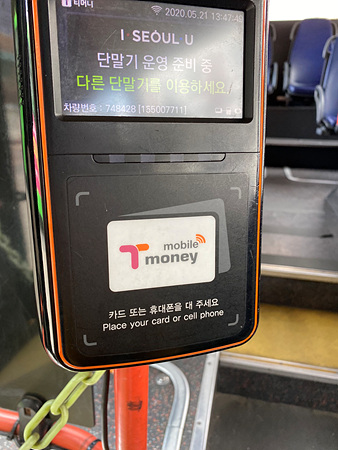terminal: (20, 3, 258, 352)
